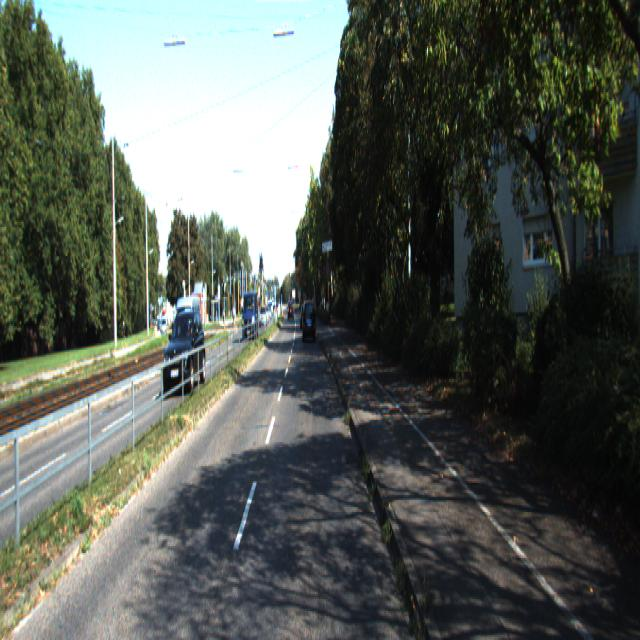Car: (163, 308, 207, 396), (303, 300, 317, 344)
DontCare: (260, 304, 275, 324), (287, 300, 293, 318)
Van: (170, 292, 203, 369), (242, 288, 259, 340)
